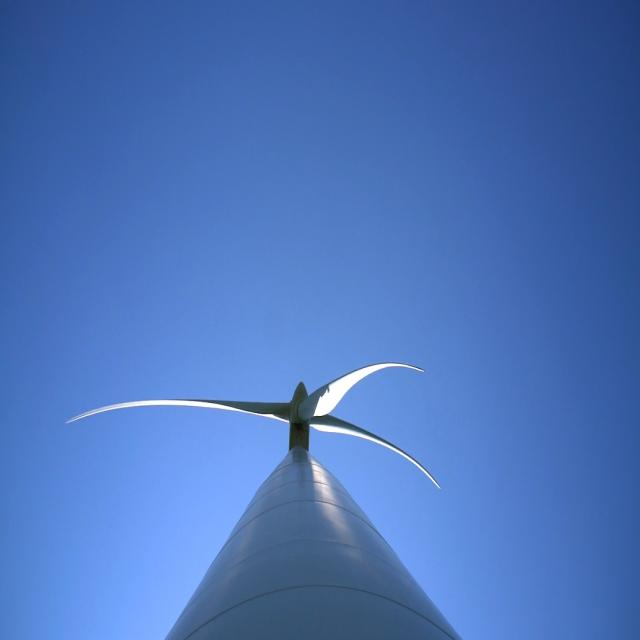blade 1: (34, 382, 280, 438)
blade 2: (356, 350, 544, 410)
blade 3: (349, 418, 444, 509)
